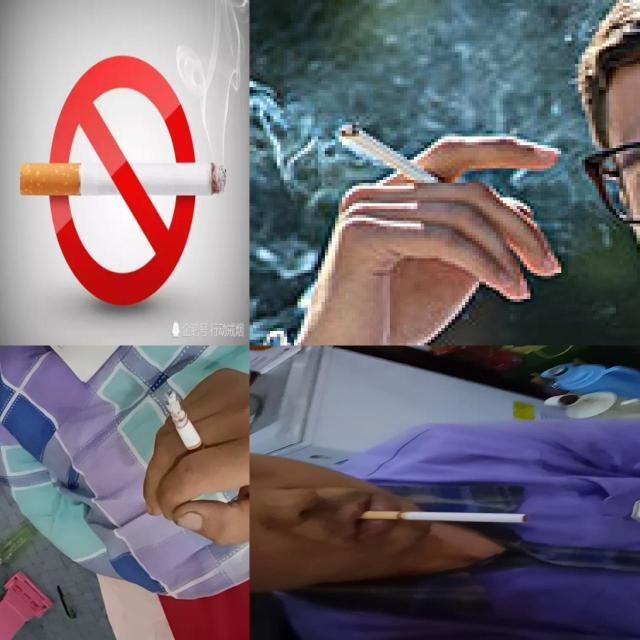smoking: (19, 162, 227, 196), (332, 119, 442, 183), (166, 391, 208, 464), (358, 511, 530, 524)
